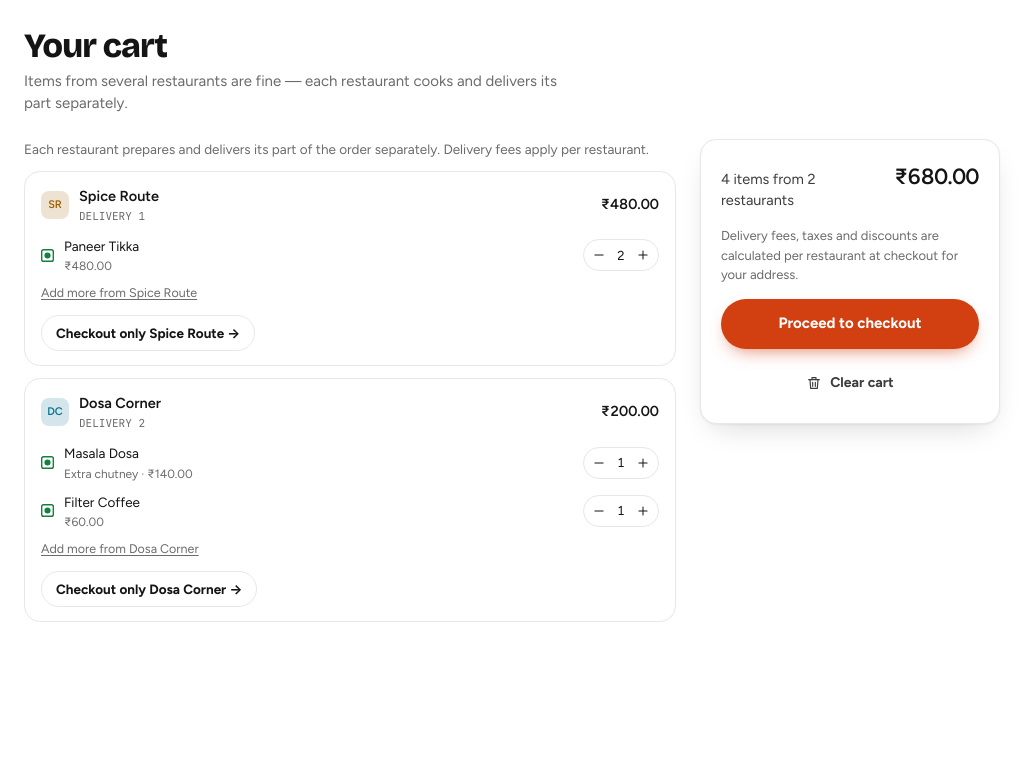
Scenario: CartPage › guest cart: sends X-Guest-Cart and asks to sign in before checkout
Click the button "Proceed to checkout" at {"x": 850, "y": 324}, box [721, 299, 979, 349]
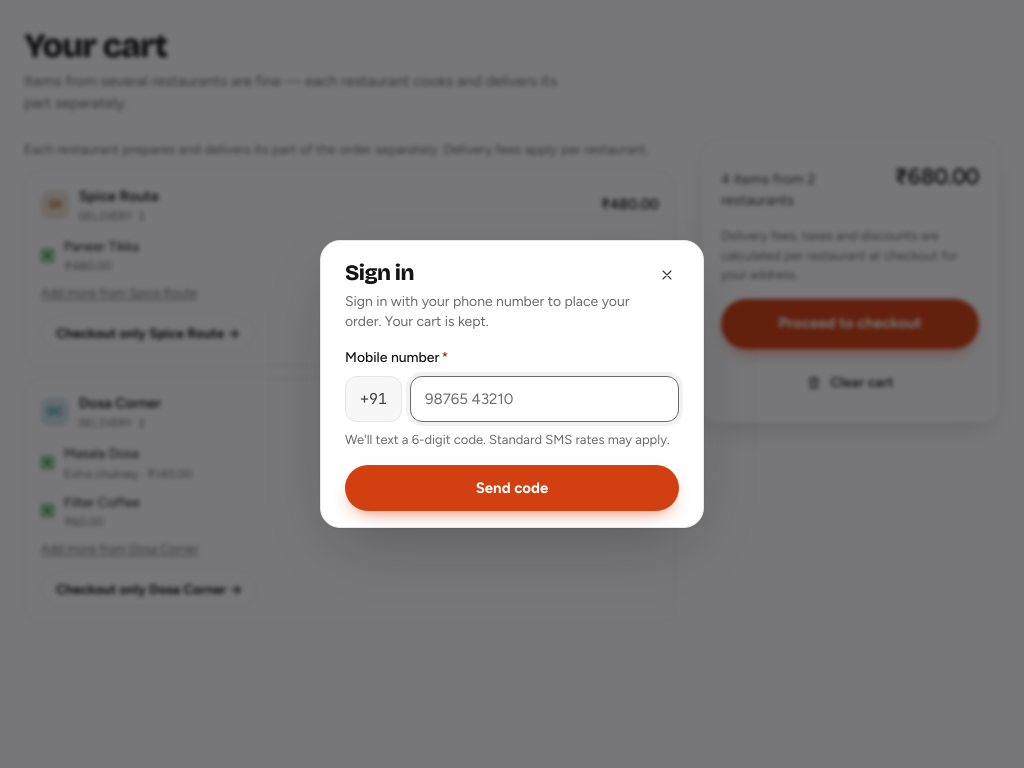
Now the dialog "Sign in" is shown, box [320, 240, 704, 528]
